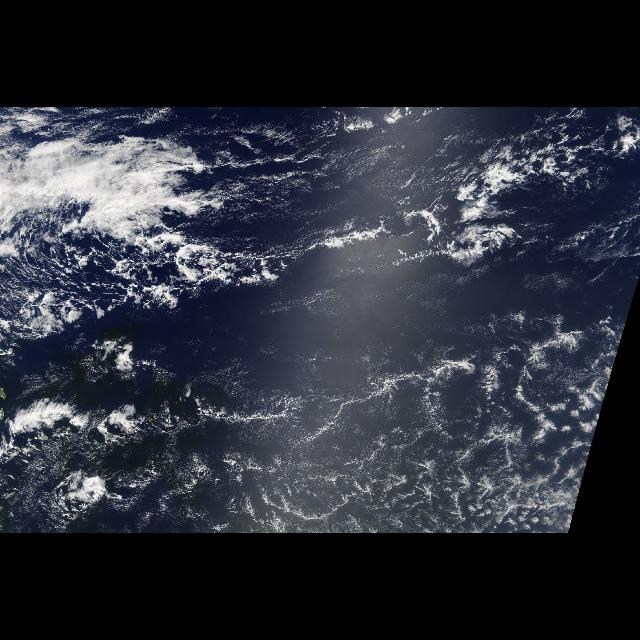Gravel: (0, 233, 242, 533), (274, 373, 568, 529)
Sugar: (208, 279, 640, 533), (254, 114, 472, 220)
